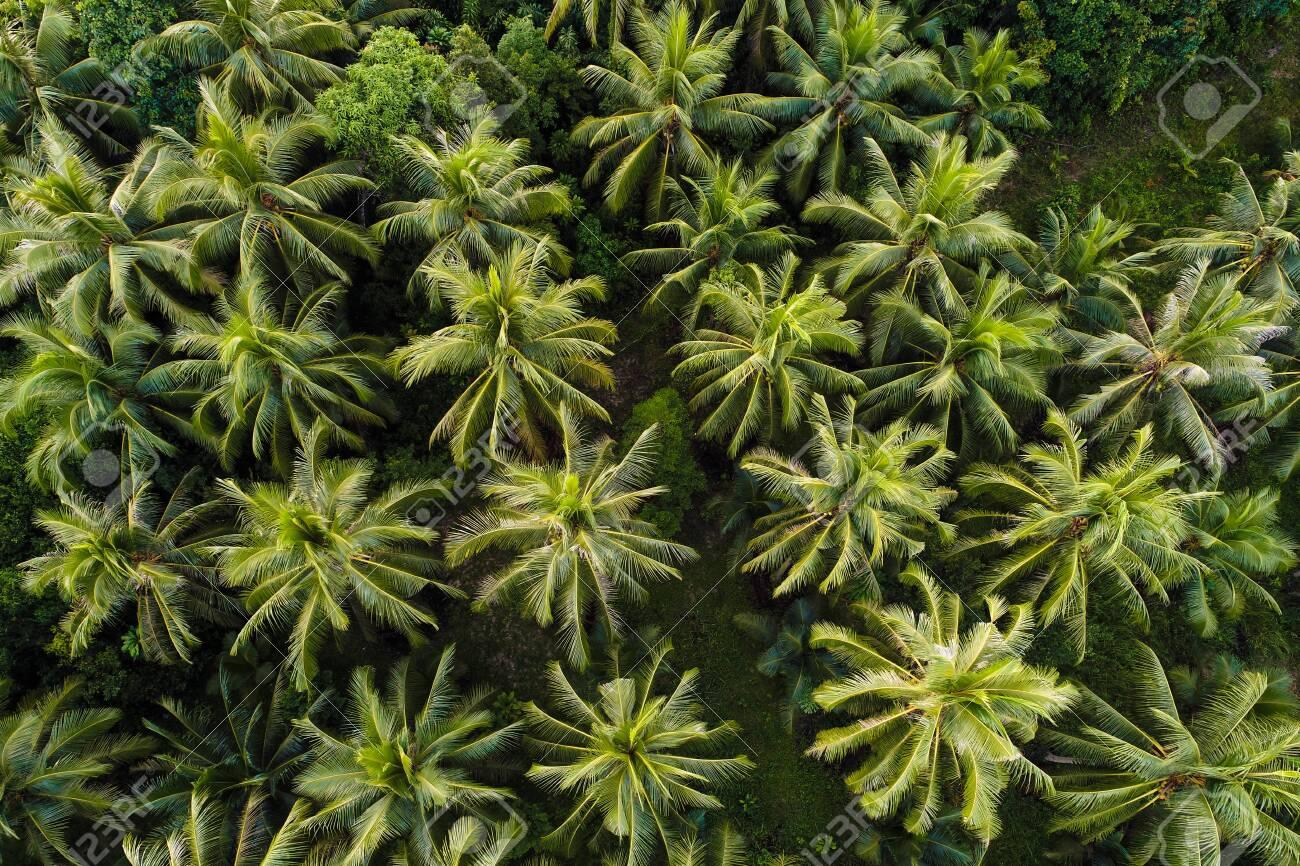coconut_tree: (807, 581, 1079, 848), (449, 421, 721, 688), (194, 422, 466, 689), (508, 659, 774, 865), (746, 383, 999, 589), (134, 270, 398, 462), (1087, 628, 1299, 865), (261, 662, 508, 865), (0, 117, 227, 337), (166, 66, 415, 258), (393, 252, 644, 440), (512, 0, 748, 183), (816, 113, 1041, 288), (1076, 255, 1270, 444), (1014, 433, 1216, 600)
